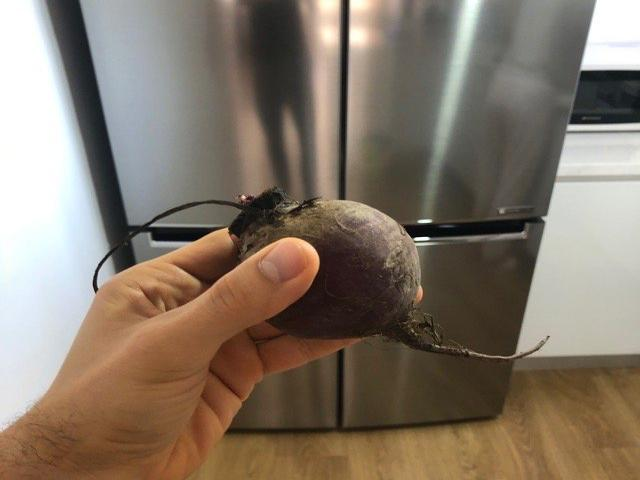beet: (93, 190, 553, 361)
